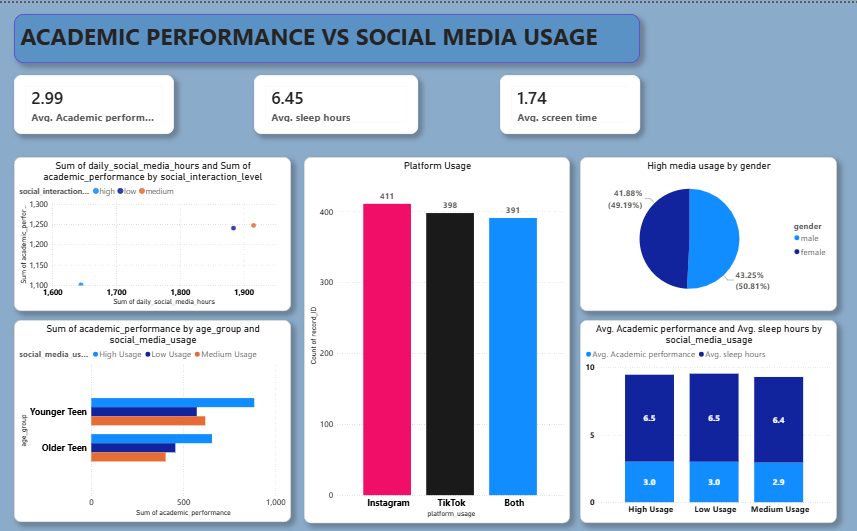

Layout of this report page (visuals, bound fields, positions):
{"tool":"powerbi","page":{"name":"Dashboard2","canvas":[1800,1100],"ordinal":1},"visuals":[{"type":"scatterChart","fields":{"X":["Sum(Teen_Mental_health_project.daily_social_media_hours)"],"Y":["Sum(Teen_Mental_health_project.academic_performance)"],"Series":["Teen_Mental_health_project.social_interaction_level"]},"box":[31.2,320.8,577.1,320.8],"z":0},{"type":"columnChart","fields":{"Category":["Teen_Mental_health_project.social_media_usage"],"Y":["Teen_Mental_health_project.Avg. Academic performance","Teen_Mental_health_project.Avg. sleep hours"]},"box":[1210.4,660.4,535.4,422.9],"z":1000},{"type":"clusteredBarChart","fields":{"Category":["Teen_Mental_health_project.age_group"],"Series":["Teen_Mental_health_project.social_media_usage"],"Y":["Sum(Teen_Mental_health_project.academic_performance)"]},"box":[31.2,660.4,577.1,420.8],"z":2000},{"type":"clusteredColumnChart","title":"Platform Usage","fields":{"Category":["Teen_Mental_health_project.platform_usage"],"Y":["CountNonNull(Teen_Mental_health_project.record_ID)"]},"box":[635.4,320.8,554.2,762.5],"z":3000},{"type":"pieChart","fields":{"Category":["Teen_Mental_health_project.gender","Teen_Mental_health_project.social_media_usage"],"Y":["Teen_Mental_health_project.High media usage"]},"box":[1210.4,320.8,535.4,320.8],"z":4000},{"type":"cardVisual","fields":{"Data":["Teen_Mental_health_project.Avg. sleep hours"]},"box":[531.2,150,341.7,122.9],"z":5000},{"type":"cardVisual","fields":{"Data":["Teen_Mental_health_project.Avg. Academic performance"]},"box":[31.2,150,333.3,122.9],"z":6000},{"type":"textbox","box":[31.2,22.9,1304.2,102.1],"z":7000},{"type":"cardVisual","fields":{"Data":["Teen_Mental_health_project.Avg. screen time"]},"box":[1043.8,150,291.7,122.9],"z":8000}]}

Visuals, with their boxes in screenshot pixels (x1, y1, x2, y2), scaled from the page's 1800x1100 canvas onto the 857x531 screenshot:
scatterChart - Sum(Teen_Mental_health_project.daily_social_media_hours) x Sum(Teen_Mental_health_project.academic_performance): bbox=[15, 155, 290, 310]
columnChart - Teen_Mental_health_project.social_media_usage x Teen_Mental_health_project.Avg. Academic performance: bbox=[576, 319, 831, 523]
clusteredBarChart - Teen_Mental_health_project.age_group x Teen_Mental_health_project.social_media_usage: bbox=[15, 319, 290, 522]
"Platform Usage" clusteredColumnChart: bbox=[303, 155, 566, 523]
pieChart - Teen_Mental_health_project.gender x Teen_Mental_health_project.social_media_usage: bbox=[576, 155, 831, 310]
cardVisual - Teen_Mental_health_project.Avg. sleep hours: bbox=[253, 72, 416, 132]
cardVisual - Teen_Mental_health_project.Avg. Academic performance: bbox=[15, 72, 174, 132]
textbox: bbox=[15, 11, 636, 60]
cardVisual - Teen_Mental_health_project.Avg. screen time: bbox=[497, 72, 636, 132]
